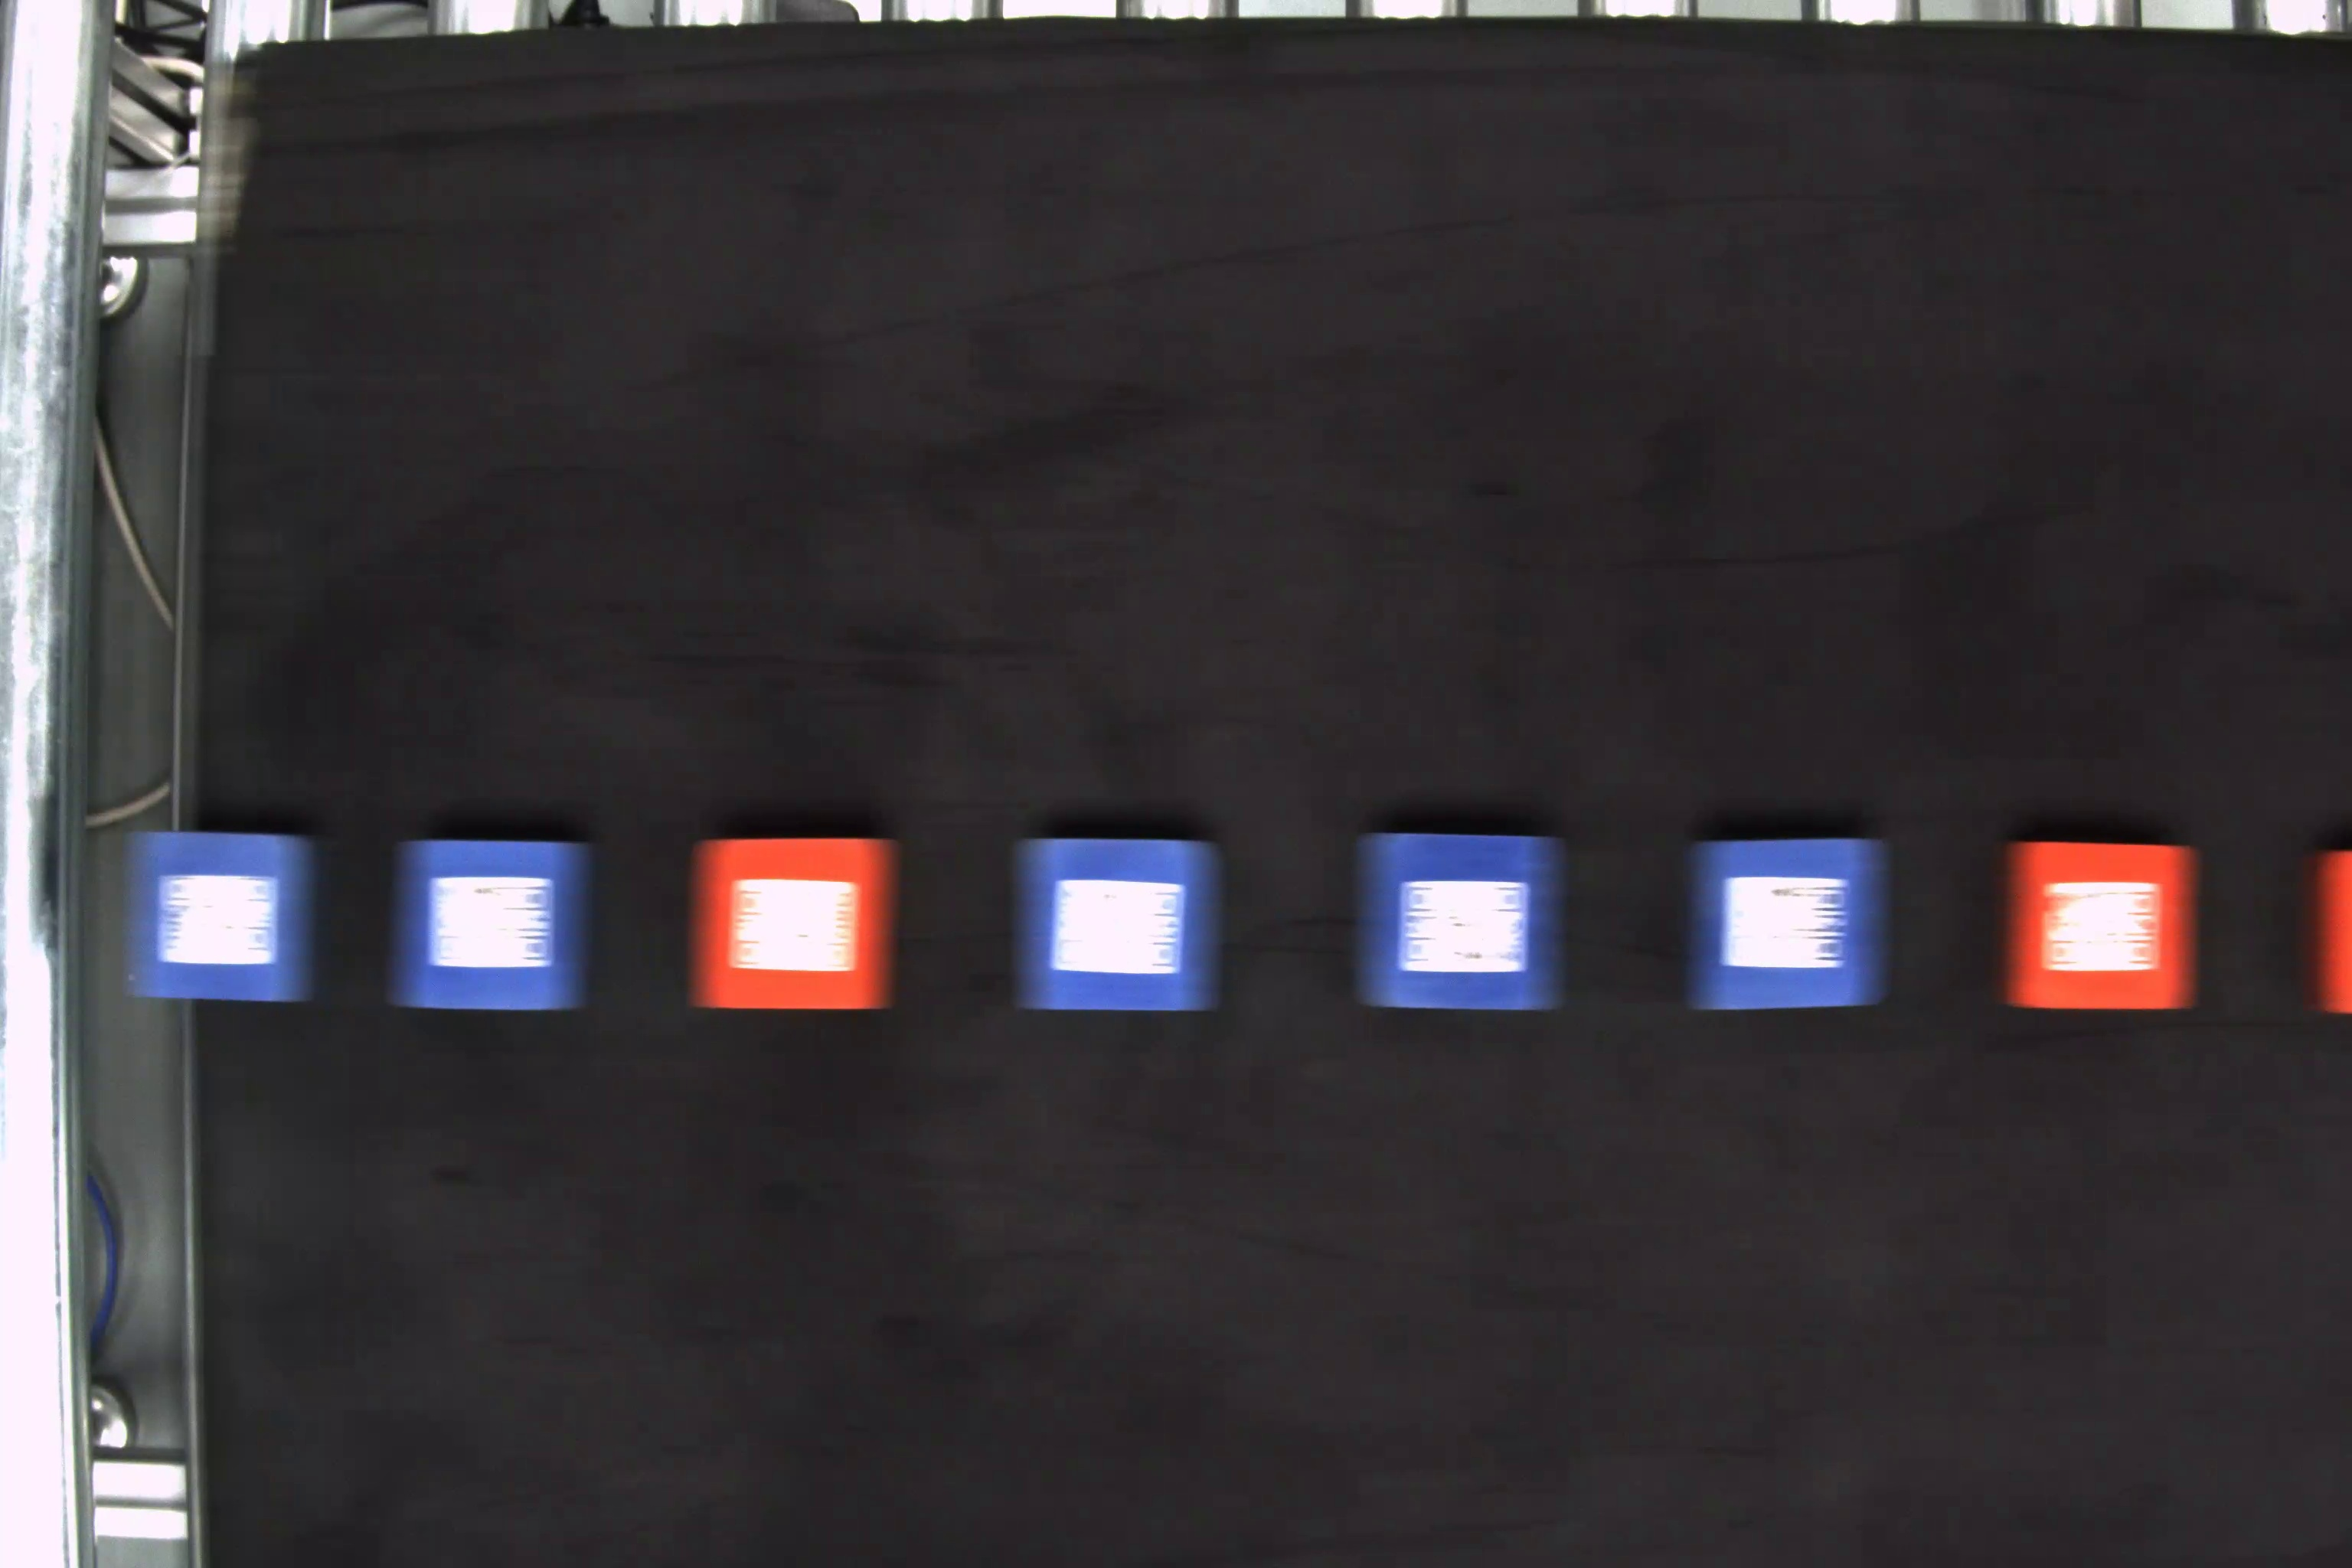wood: (688, 836, 899, 1013), (1013, 835, 1220, 1011), (2002, 835, 2205, 1011), (1360, 833, 1559, 1004), (1690, 843, 1893, 1011), (128, 833, 322, 1003), (397, 840, 588, 1006)
